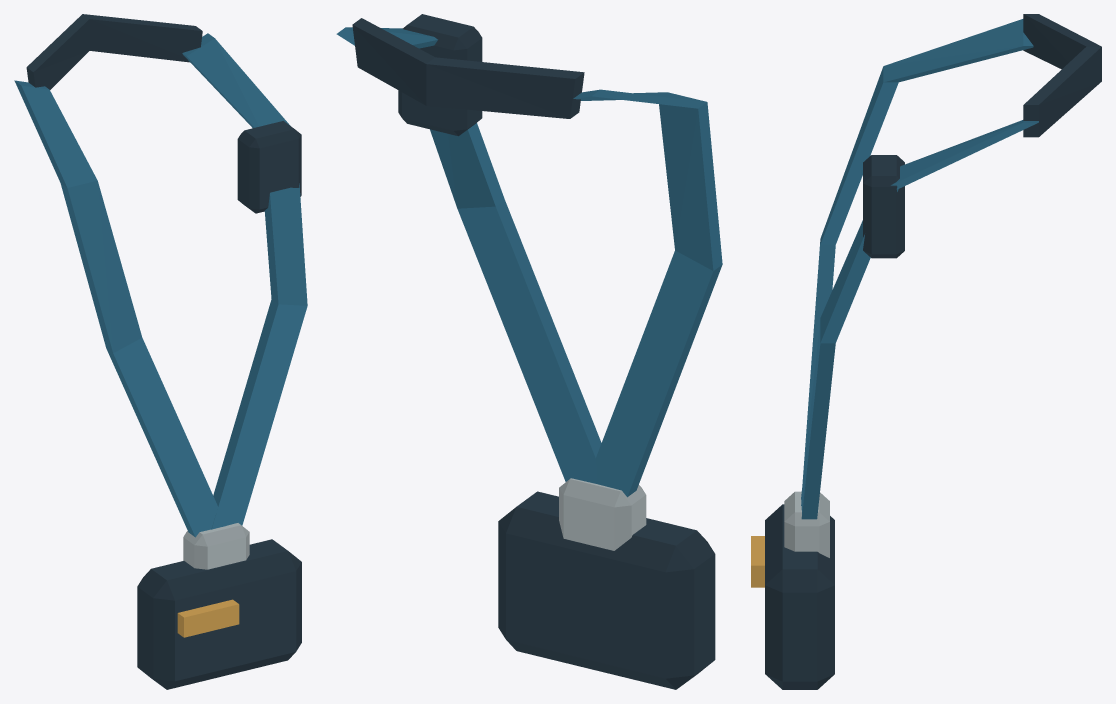
Rendered from null_lanyard.glb.
The picture shows the model from 3 angles, left to right: view 1: azimuth 30°, elevation 25°; view 2: azimuth 150°, elevation 25°; view 3: azimuth 270°, elevation 25°; orthographic projection. The views are drawn at different scales.
Parts seen in each view (by area): view 1: null_lanyard; view 2: null_lanyard; view 3: null_lanyard.
Part boxes in pixels (bbox=[...]): null_lanyard: bbox=[14, 14, 307, 689]; null_lanyard: bbox=[336, 14, 722, 689]; null_lanyard: bbox=[751, 14, 1101, 689].
Size of the model in its own units: 0.4312 by 1 by 0.5205.
